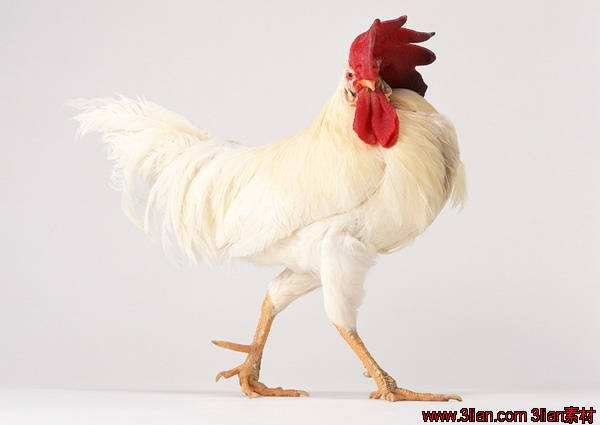chicken: (68, 22, 470, 404)
